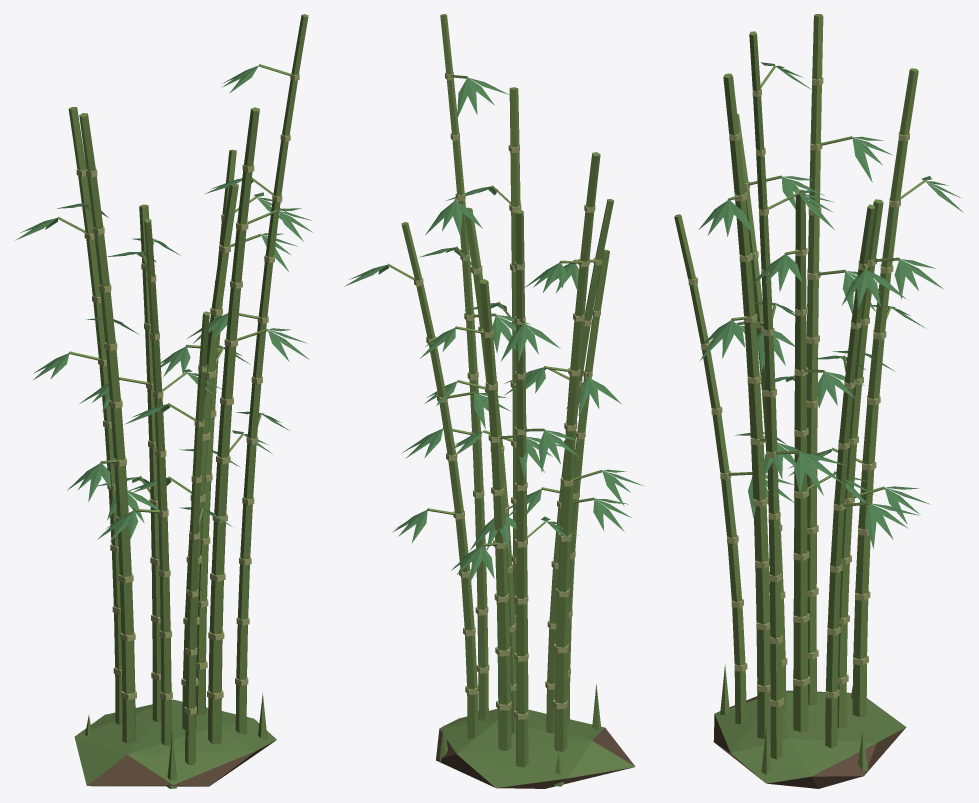
The model's file is bamboo_cluster.glb.
3 views of the same model, side by side, from view 1: azimuth 30°, elevation 25°; view 2: azimuth 150°, elevation 25°; view 3: azimuth 270°, elevation 25° (orthographic). The views are drawn at different scales.
Parts seen in each view (by area): view 1: BambooCluster / Bamboo, BambooCluster / Moss, BambooCluster / Leaf, BambooCluster / BambooNode, BambooCluster / Soil; view 2: BambooCluster / Bamboo, BambooCluster / Leaf, BambooCluster / Moss, BambooCluster / BambooNode, BambooCluster / Soil; view 3: BambooCluster / Bamboo, BambooCluster / Leaf, BambooCluster / Moss, BambooCluster / BambooNode, BambooCluster / Soil.
Part boxes in pixels (x1,y1,x2,y2): BambooCluster / Bamboo: [57, 14, 308, 788]; BambooCluster / Moss: [74, 699, 276, 785]; BambooCluster / Leaf: [15, 65, 312, 541]; BambooCluster / BambooNode: [76, 73, 299, 714]; BambooCluster / Soil: [87, 741, 274, 786]; BambooCluster / Bamboo: [387, 14, 613, 786]; BambooCluster / Leaf: [344, 77, 643, 583]; BambooCluster / Moss: [439, 708, 635, 787]; BambooCluster / BambooNode: [414, 72, 602, 719]; BambooCluster / Soil: [436, 728, 634, 788]; BambooCluster / Bamboo: [674, 14, 925, 774]; BambooCluster / Leaf: [698, 62, 963, 548]; BambooCluster / Moss: [714, 690, 906, 783]; BambooCluster / BambooNode: [688, 76, 909, 707]; BambooCluster / Soil: [713, 696, 905, 788].
Size of the model in its own units: 2.46 by 6.81 by 2.32.
